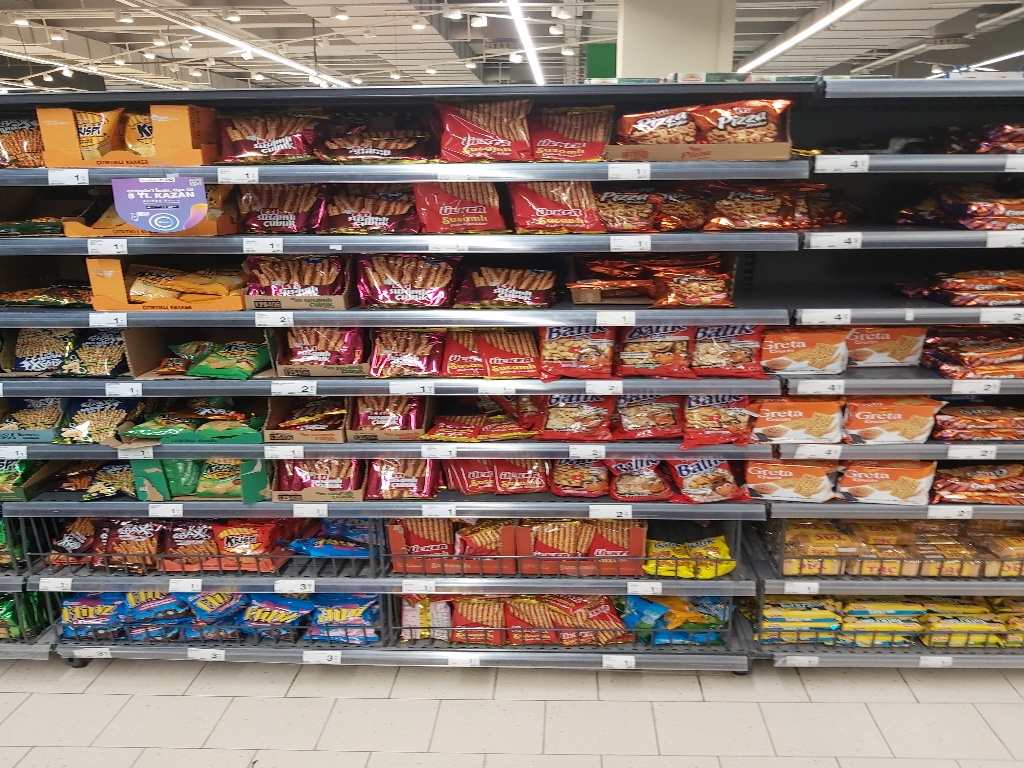urun: (86, 241, 251, 315), (562, 251, 740, 315), (233, 244, 353, 310), (393, 512, 516, 576), (522, 513, 645, 577), (344, 246, 465, 311), (444, 243, 564, 308), (211, 95, 316, 164), (329, 95, 434, 164), (433, 92, 538, 159), (709, 169, 817, 233), (594, 168, 701, 232), (262, 440, 369, 502), (705, 90, 794, 164), (837, 390, 943, 452), (746, 393, 852, 454), (328, 172, 420, 241), (419, 173, 511, 242), (506, 170, 598, 239), (271, 315, 361, 383), (230, 178, 330, 239), (356, 320, 445, 388), (303, 582, 384, 654), (841, 312, 927, 378), (522, 100, 617, 159), (607, 316, 692, 381), (684, 320, 769, 385), (762, 324, 847, 389), (358, 442, 439, 507), (521, 383, 613, 440), (599, 387, 691, 444), (64, 321, 133, 389), (1, 314, 69, 381), (439, 591, 507, 655), (620, 102, 699, 157), (545, 319, 613, 381), (746, 457, 837, 503), (691, 388, 759, 449), (844, 460, 934, 506), (69, 385, 129, 451), (1, 387, 60, 452), (429, 319, 486, 385), (351, 388, 425, 438), (476, 321, 539, 379), (499, 591, 562, 649), (210, 513, 266, 575), (101, 509, 157, 571), (246, 590, 302, 652), (164, 512, 220, 573), (604, 457, 671, 506), (672, 454, 739, 503), (191, 387, 252, 439)
urun2: (35, 100, 212, 169)
